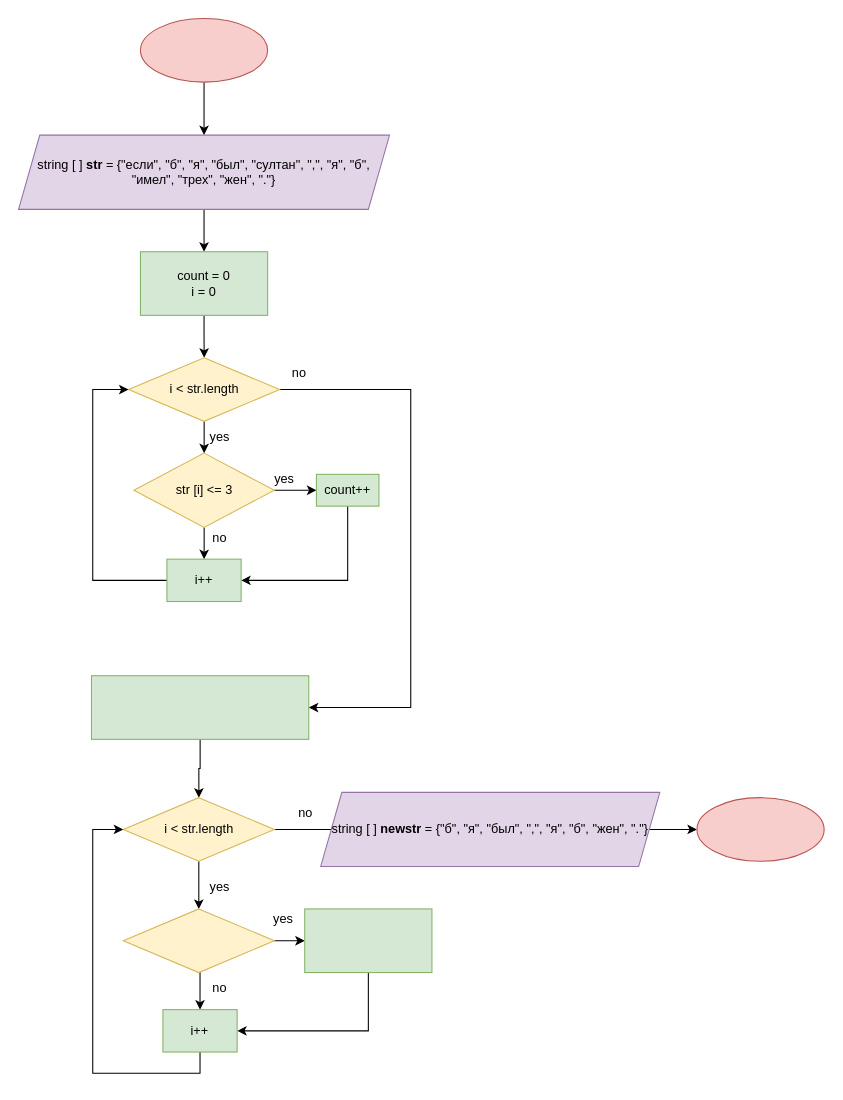
Some shapes in this 843 by 1100 pixel diagram are drawn without their labels. The shapes that lost their labels are listed below. From the top down, each one's centre as x and y in pixels, then its label:
[203,49]: START
[199,707]: string [ ] newstr = new string [ count ] index = 0 i = 0
[760,829]: FINISH
[198,940]: str[i]length <= 3
[368,940]: newstr[index] = str[i] index++
